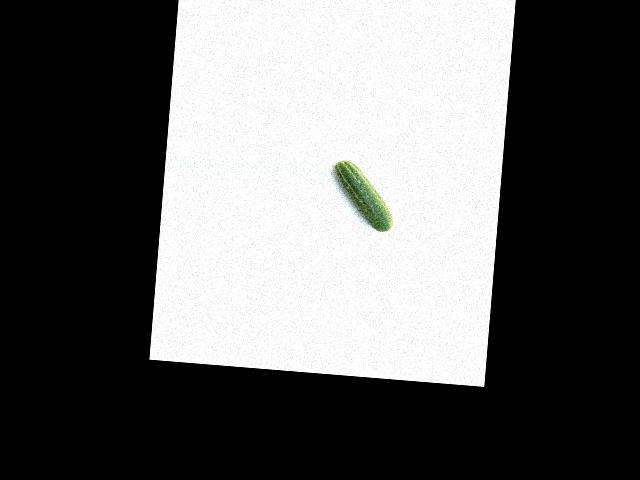cucumber: (329, 159, 398, 232)
